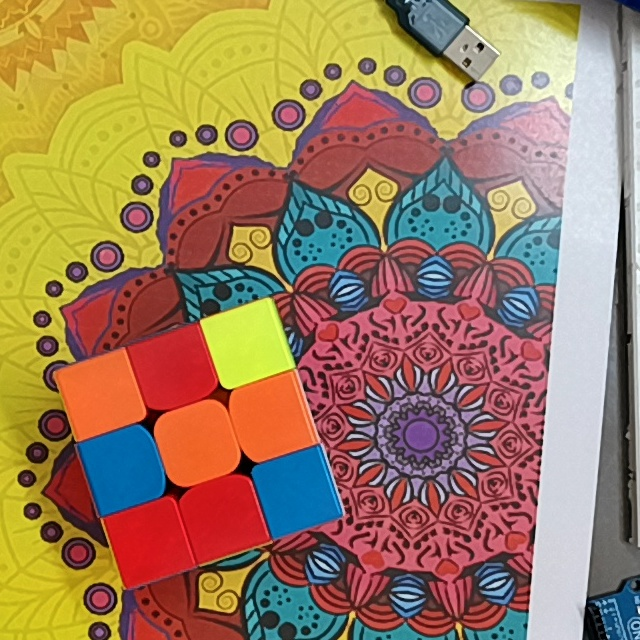tile: (170, 414, 228, 470), (119, 514, 176, 570), (270, 465, 325, 520), (72, 366, 128, 420), (218, 316, 275, 369), (244, 389, 300, 442), (98, 440, 151, 495), (196, 490, 251, 542), (148, 344, 202, 396)
